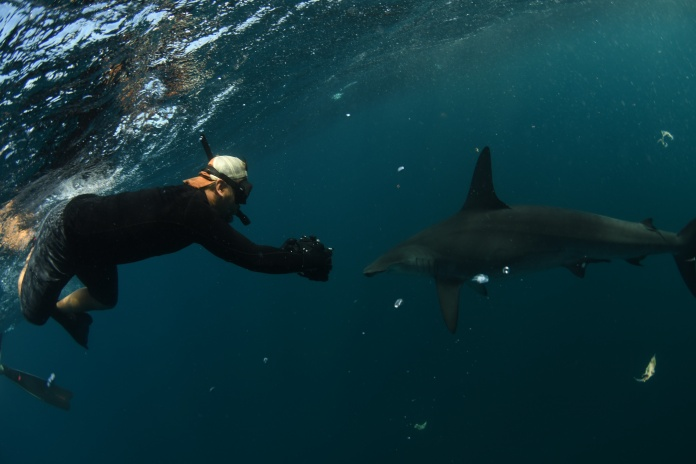Hammer: (333, 130, 696, 381)
